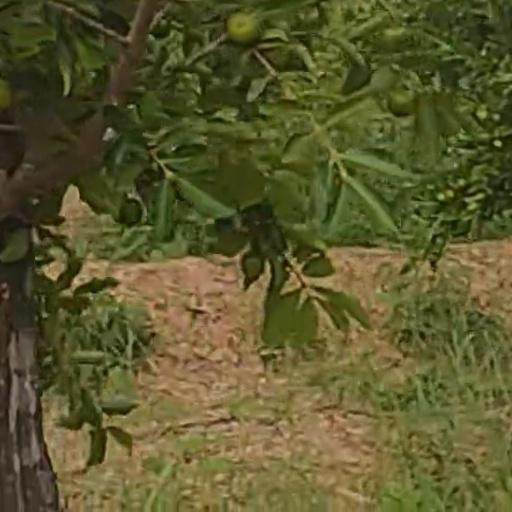acerola: (228, 14, 260, 44)
